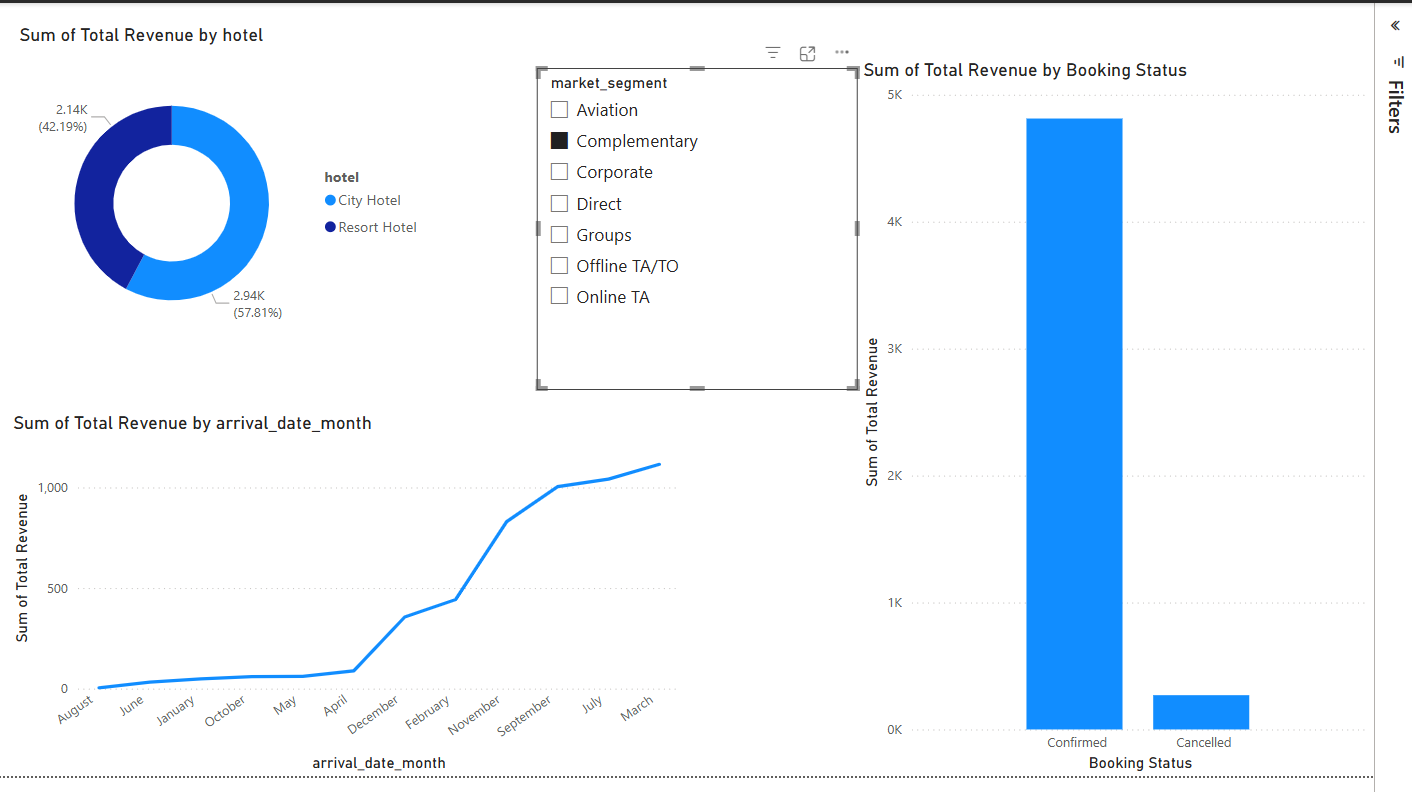

This screenshot's page, from the dashboard's own definition file:
{"tool":"powerbi","page":{"name":"Page 1","canvas":[1280,720],"ordinal":0},"visuals":[{"type":"lineChart","fields":{"Category":["hotel_bookings.arrival_date_month"],"Y":["Sum(hotel_bookings.Total Revenue)"]},"box":[9.3,380.2,630.2,339.5],"z":0},{"type":"columnChart","fields":{"Y":["Sum(hotel_bookings.Total Revenue)"],"Category":["hotel_bookings.Booking Status"]},"box":[800,52.3,480.2,667.4],"z":1000},{"type":"donutChart","fields":{"Category":["hotel_bookings.hotel"],"Y":["Sum(hotel_bookings.Total Revenue)"]},"box":[15.1,19.8,388.4,314],"z":1001},{"type":"slicer","fields":{"Values":["hotel_bookings.market_segment"]},"box":[501.2,60.5,298.8,300],"z":1002}]}

Visuals, with their boxes on the page's 1280x720 design canvas (x1, y1, x2, y2). These are canvas units, not pixel positions in the 1412x792 screenshot, which may show the page scaled, cropped or inside an application window:
lineChart - hotel_bookings.arrival_date_month x Sum(hotel_bookings.Total Revenue): {"left": 9, "top": 380, "right": 640, "bottom": 720}
columnChart - Sum(hotel_bookings.Total Revenue) x hotel_bookings.Booking Status: {"left": 800, "top": 52, "right": 1280, "bottom": 720}
donutChart - hotel_bookings.hotel x Sum(hotel_bookings.Total Revenue): {"left": 15, "top": 20, "right": 404, "bottom": 334}
slicer - hotel_bookings.market_segment: {"left": 501, "top": 60, "right": 800, "bottom": 360}
